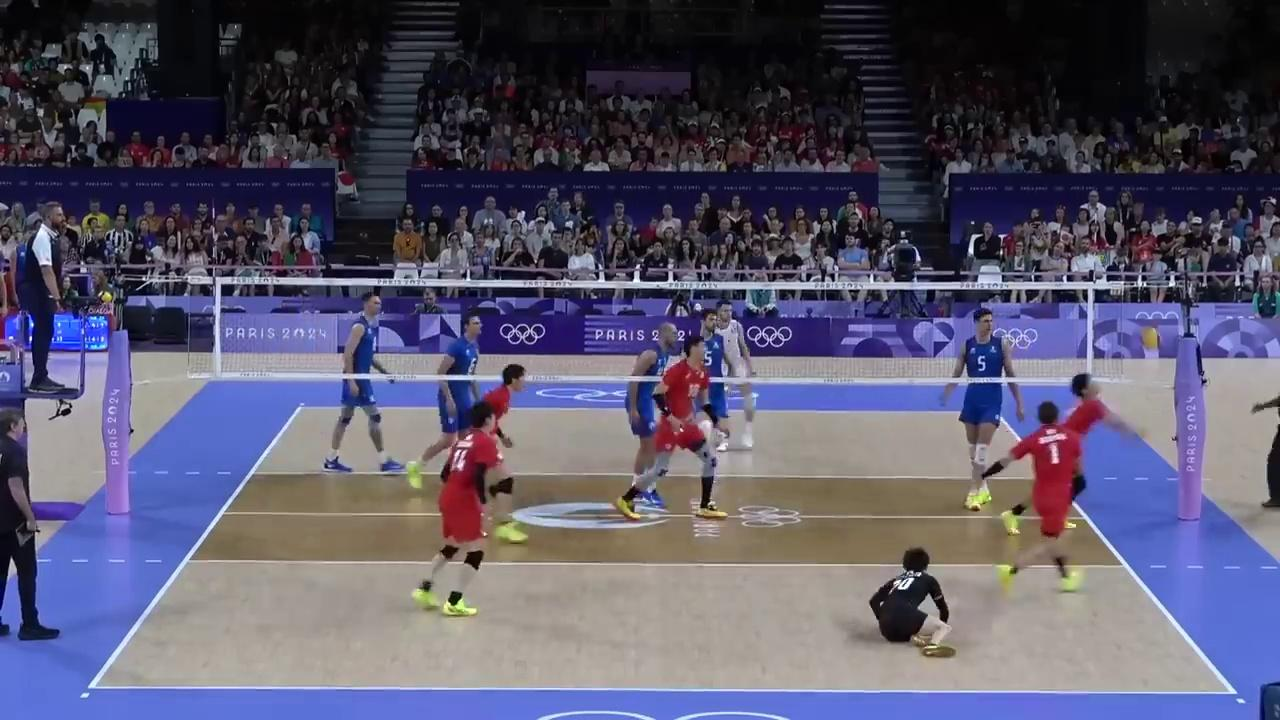ball: (1140, 326, 1160, 349)
